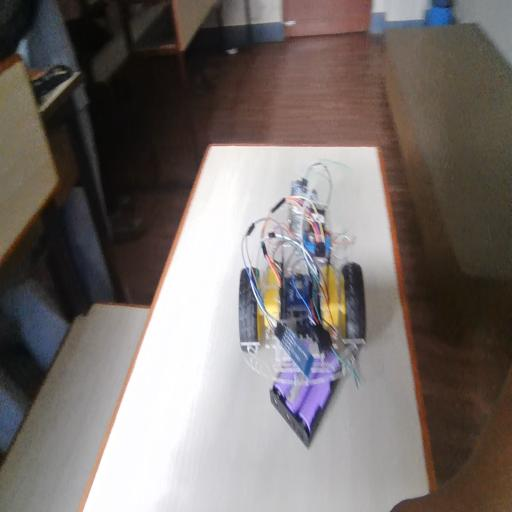car: (240, 142, 367, 480)
